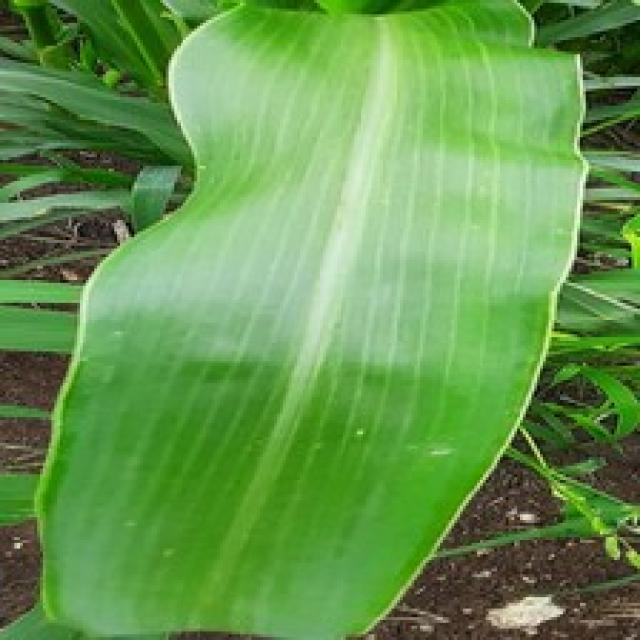Corn: (17, 0, 592, 637)
